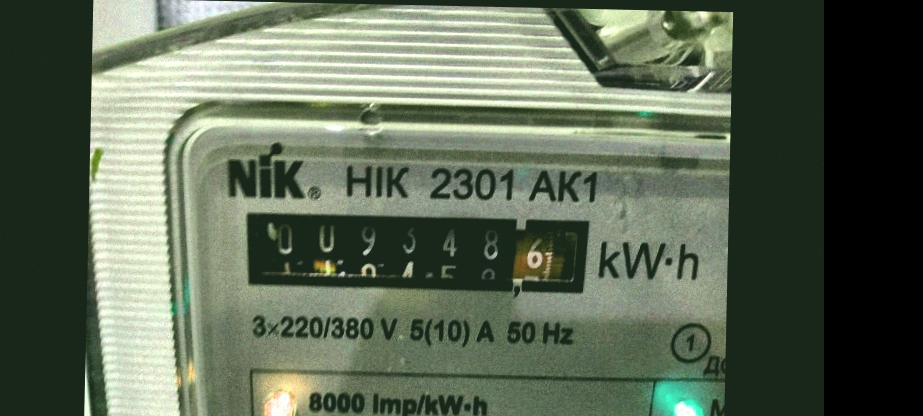0: (315, 219, 337, 255), (274, 220, 295, 255)
3: (397, 222, 420, 254)
4: (437, 222, 459, 260)
6: (524, 234, 546, 269)
8: (480, 225, 501, 260)
9: (358, 221, 377, 255)
screen: (221, 197, 608, 307)
